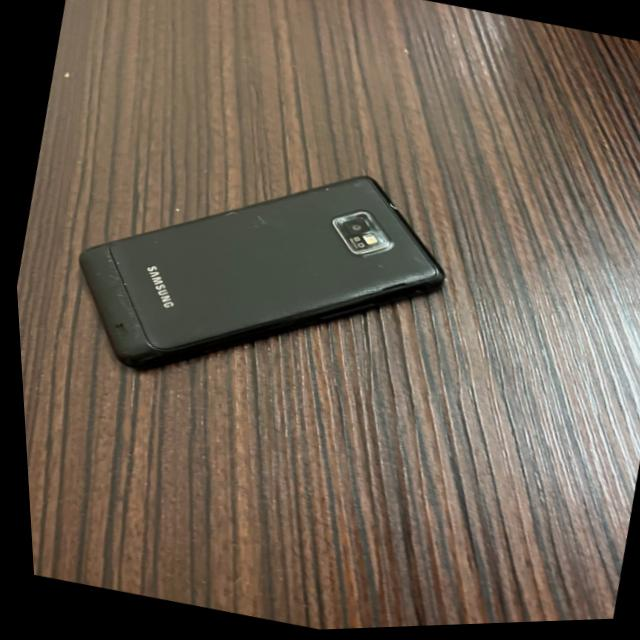Smartphone: (75, 178, 440, 369)
